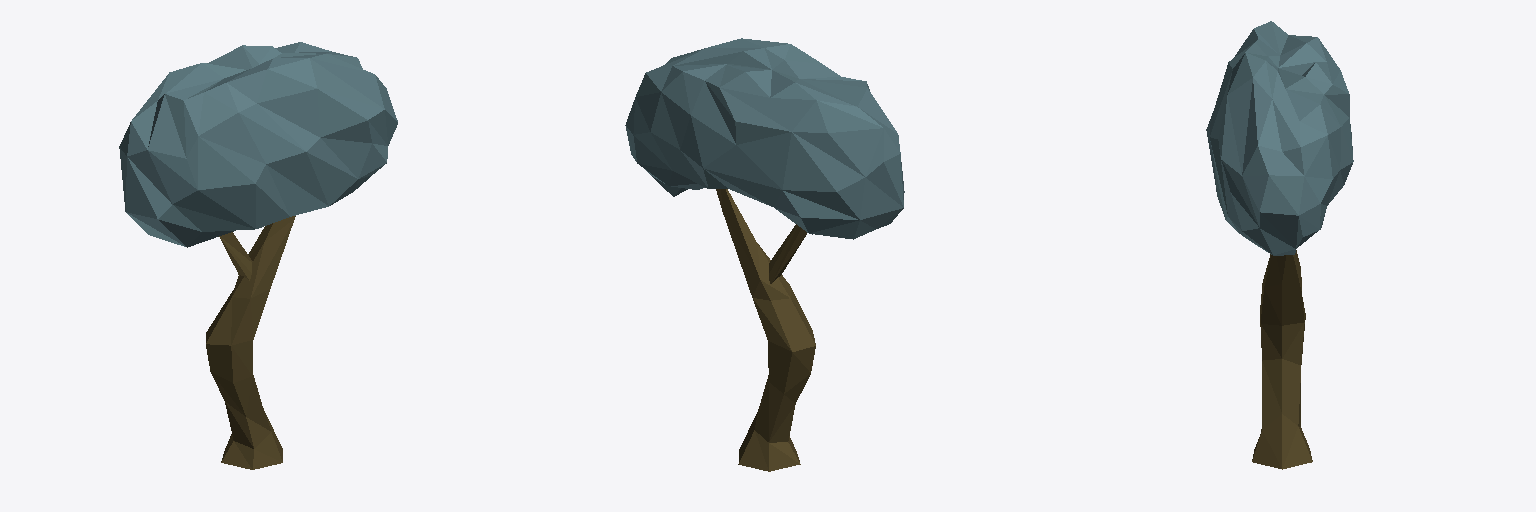
The model's file is tree1.obj.
3 views of the same model, side by side, from view 1: azimuth 30°, elevation 25°; view 2: azimuth 150°, elevation 25°; view 3: azimuth 270°, elevation 25° (orthographic).
Parts seen in each view (by area): view 1: Leaves, Trunk; view 2: Leaves, Trunk; view 3: Leaves, Trunk.
Boxes of the visible parts, x1,y1,x2,y2 form: Leaves: [119, 42, 397, 247]; Trunk: [206, 216, 295, 469]; Leaves: [625, 38, 904, 239]; Trunk: [716, 189, 815, 471]; Leaves: [1206, 21, 1353, 255]; Trunk: [1252, 250, 1312, 469].
Size of the model in its own units: 241 by 348 by 115.